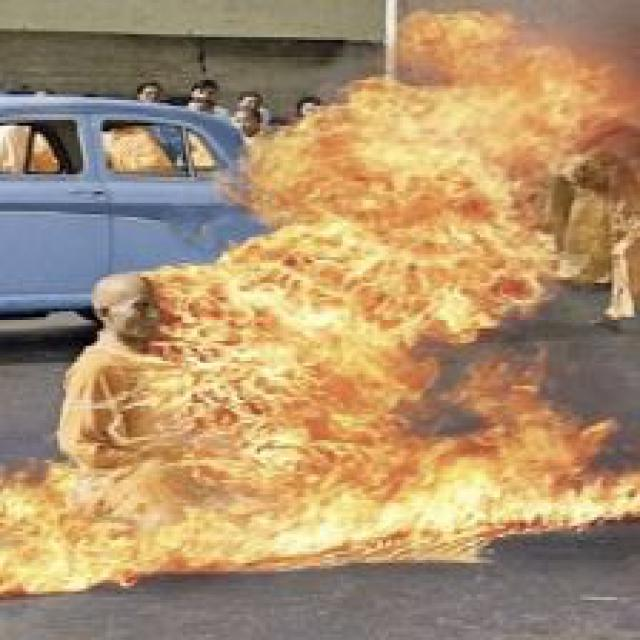fire: (172, 9, 634, 572)
